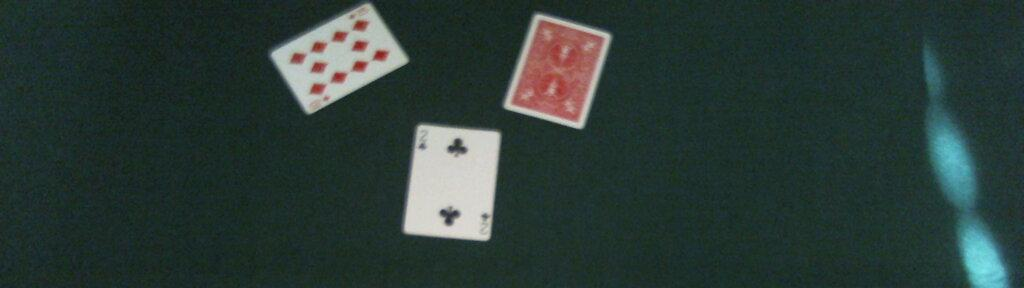back: (500, 11, 613, 132)
ten: (267, 3, 409, 117)
two: (399, 122, 502, 240)
